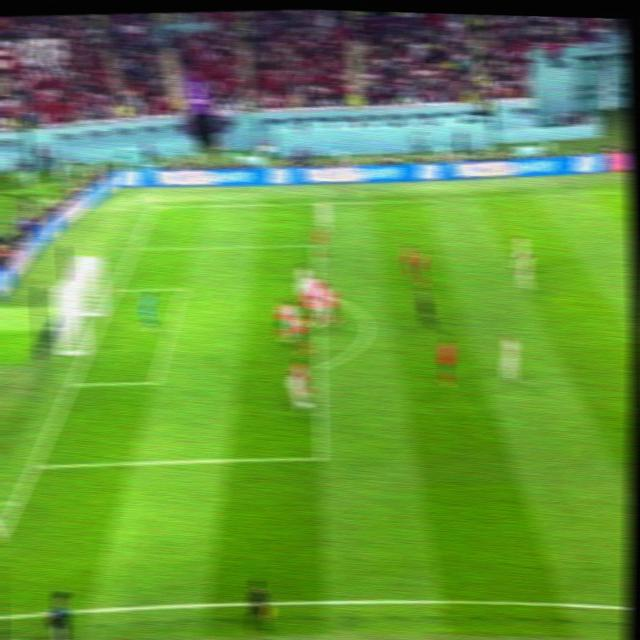bigarea_bottom_inner: (310, 449, 330, 469)
bigarea_bottom_outter: (25, 455, 44, 476)
bigarea_top_inner: (312, 240, 324, 249)
bigarea_top_outter: (129, 243, 140, 253)
bottom_arc_area_intersection: (314, 359, 328, 373)
corner: (148, 205, 161, 211)
smallarea_bottom_inner: (147, 370, 165, 390)
smallarea_bottom_outter: (63, 374, 82, 392)
smallarea_top_inner: (175, 281, 189, 297)
smallarea_top_outter: (108, 281, 124, 297)
